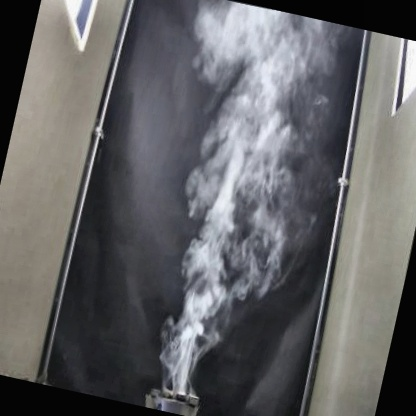smoke: (115, 0, 340, 405)
